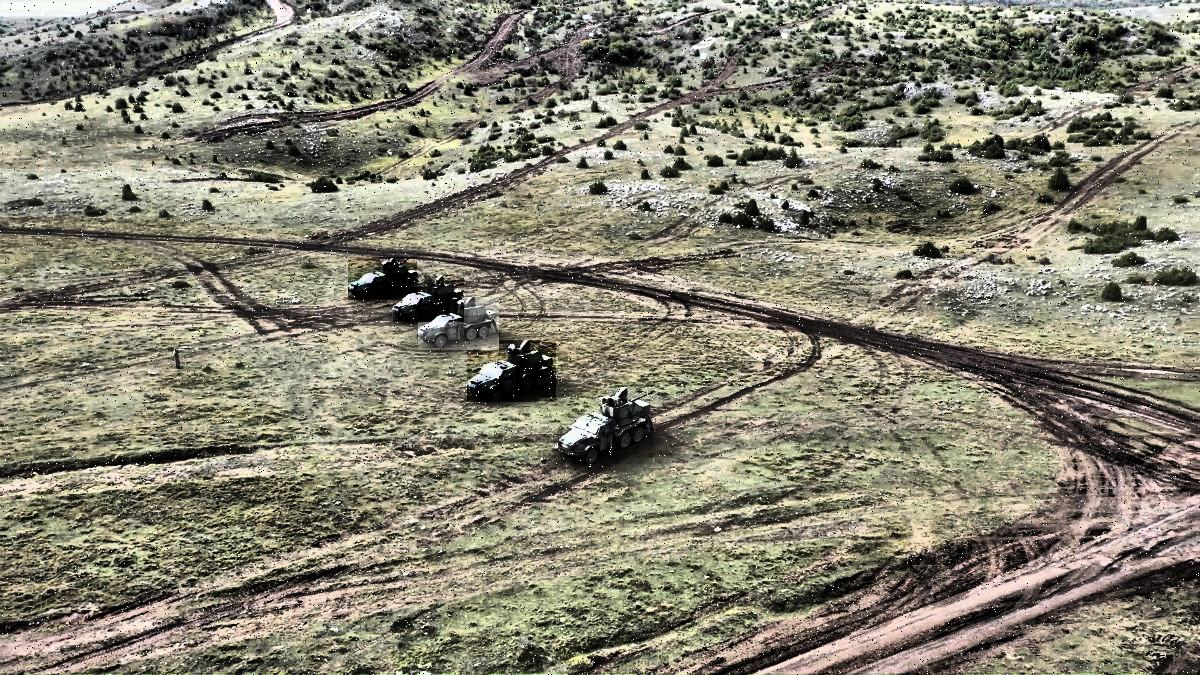military-vehicle: (558, 390, 653, 464), (468, 340, 557, 402), (419, 298, 500, 351), (393, 276, 464, 323), (349, 258, 418, 301)
